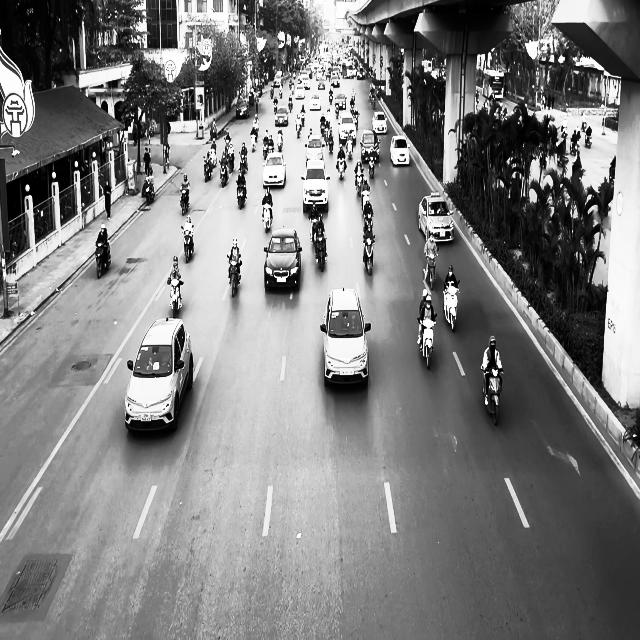bus: (482, 69, 507, 100)
car: (124, 317, 194, 433), (320, 287, 371, 387), (264, 228, 302, 292), (418, 192, 454, 244), (301, 159, 330, 212), (262, 152, 286, 188), (360, 130, 380, 162), (390, 135, 410, 166), (304, 134, 324, 163), (338, 112, 356, 143), (372, 111, 387, 133), (274, 106, 288, 126), (236, 98, 249, 118), (309, 92, 321, 110)
motorbike: (481, 366, 504, 426), (417, 314, 437, 369), (443, 280, 460, 332), (423, 247, 439, 290), (226, 255, 242, 297), (167, 276, 183, 317), (95, 240, 111, 278), (314, 230, 327, 271), (362, 234, 375, 275), (181, 225, 194, 263), (236, 179, 247, 209), (144, 177, 155, 204), (262, 204, 272, 232), (180, 187, 190, 215)
